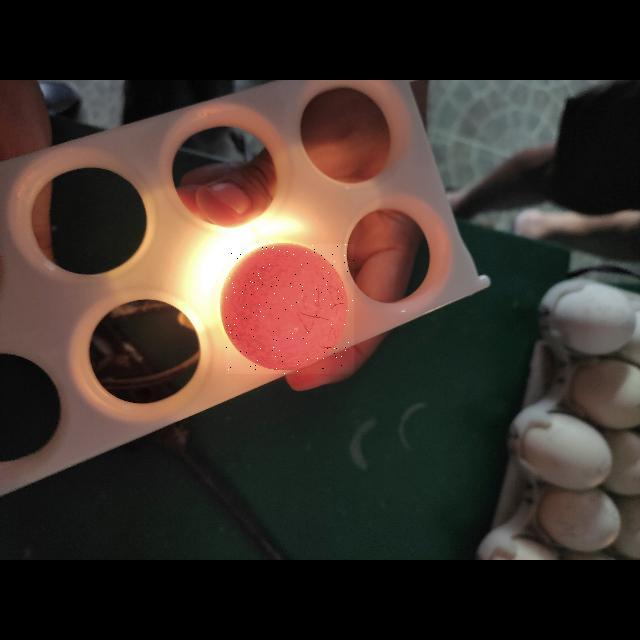A - Good: (226, 244, 354, 374)
